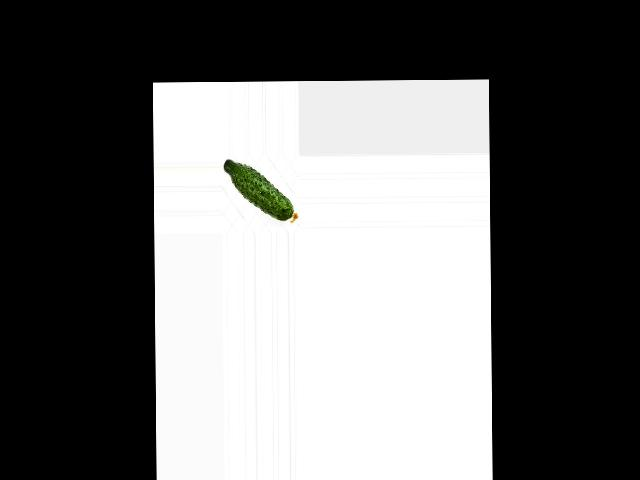cucumber: (224, 158, 298, 223)
